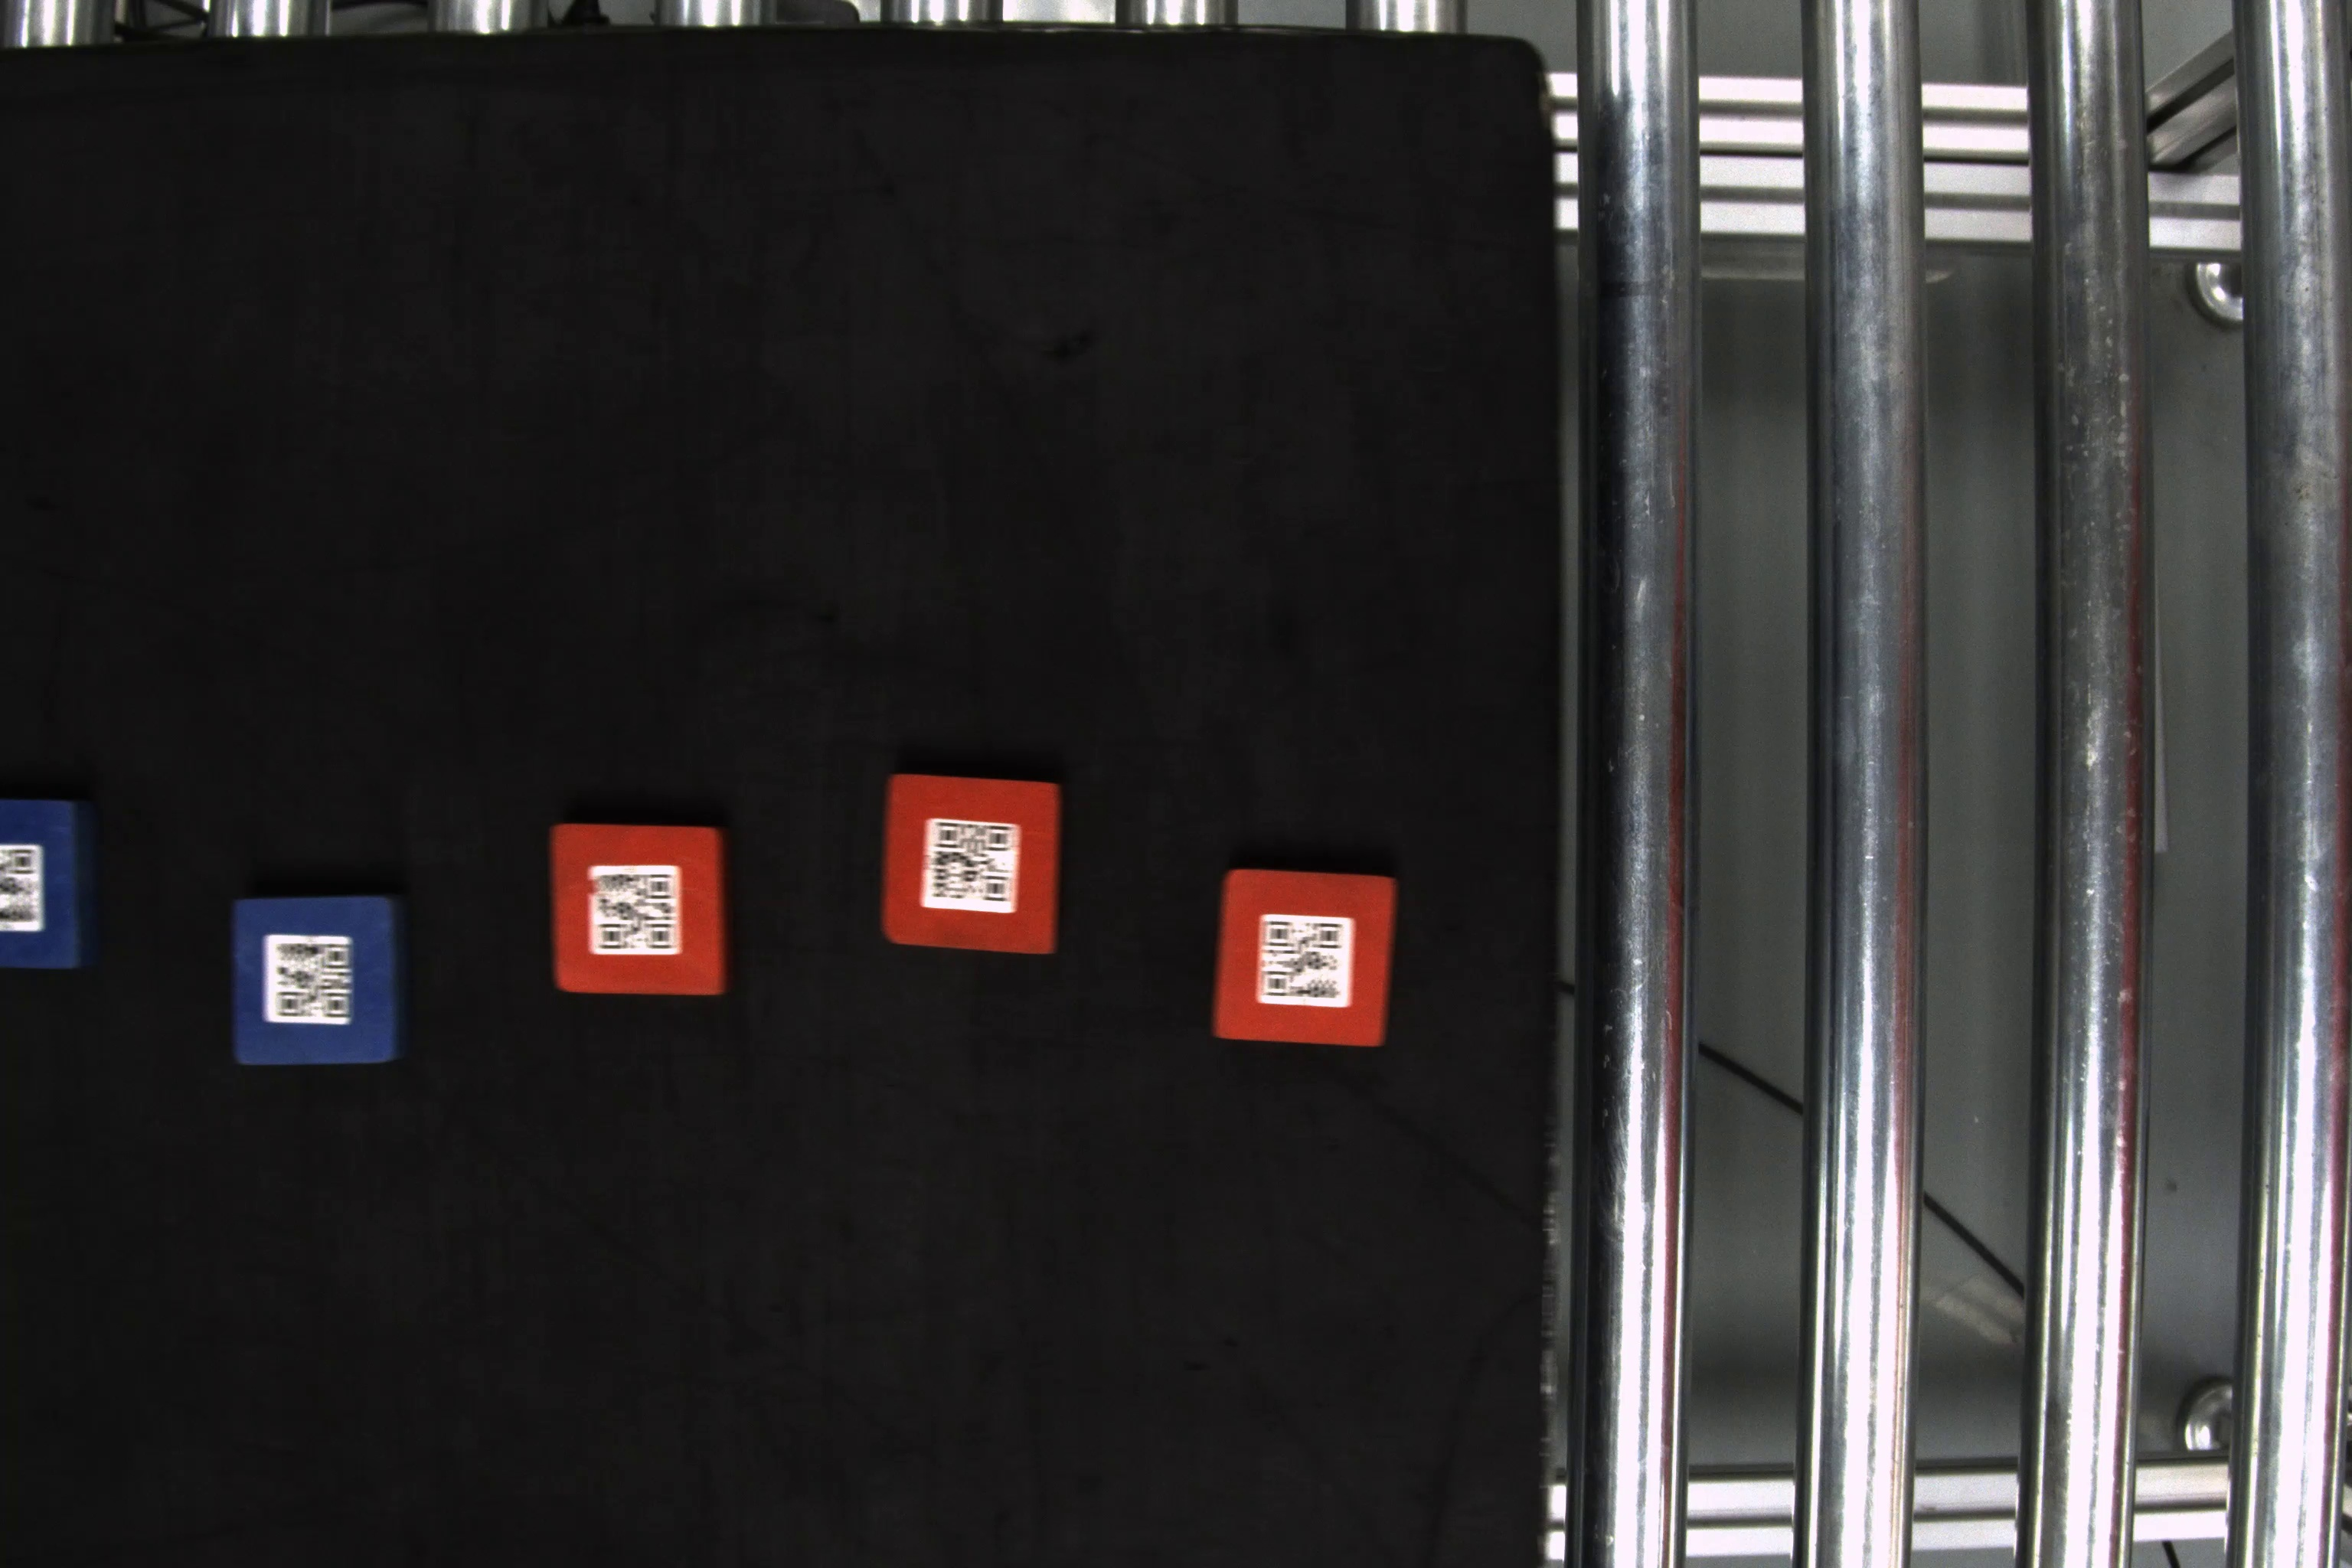wood: (544, 815, 738, 1001), (875, 772, 1064, 961), (1220, 864, 1396, 1050), (229, 896, 402, 1066), (0, 794, 103, 980)
